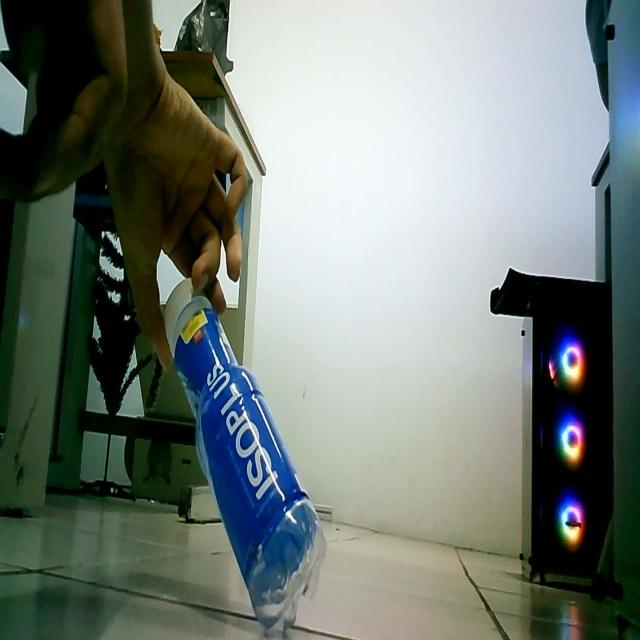botol: (144, 263, 347, 633)
